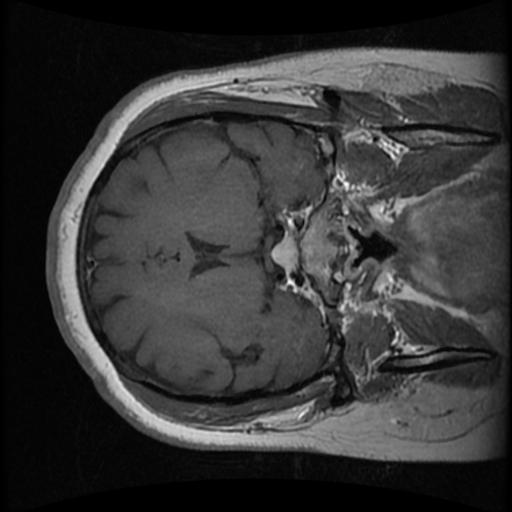pituitary tumour: (271, 229, 299, 271)
